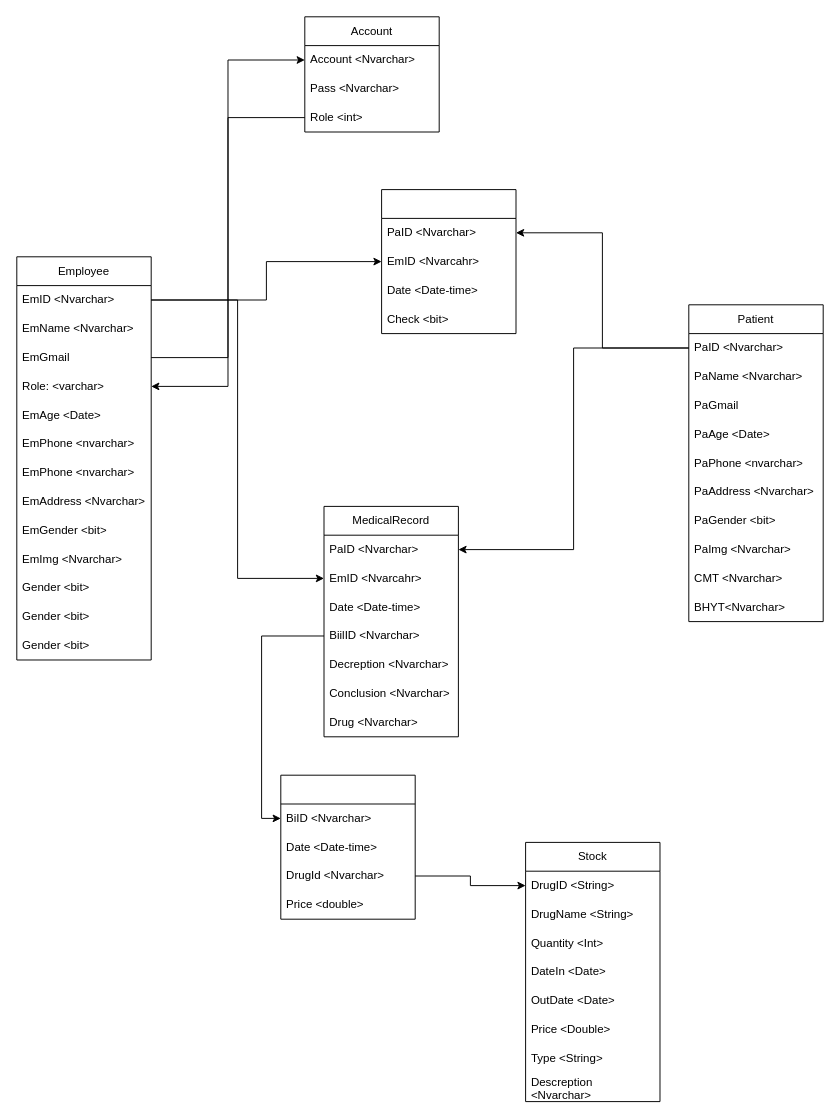
Image size: 840x1118. Some labels were removed from this diagram. Here are the shapes that lost their labels. From the top down, the box of each, then its label:
(381, 189, 516, 334): Schedule
(280, 774, 415, 919): Bill
